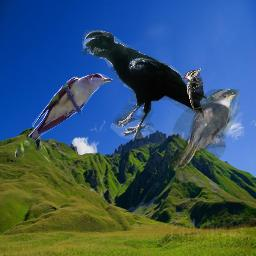Crow: (82, 30, 207, 139)
Cuckoo: (15, 73, 113, 157), (168, 89, 240, 173)
Woodpecker: (183, 68, 204, 122)
